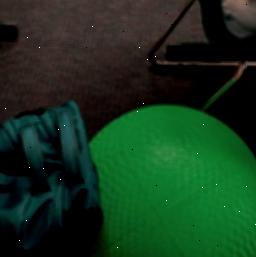algae: (82, 103, 256, 257)
